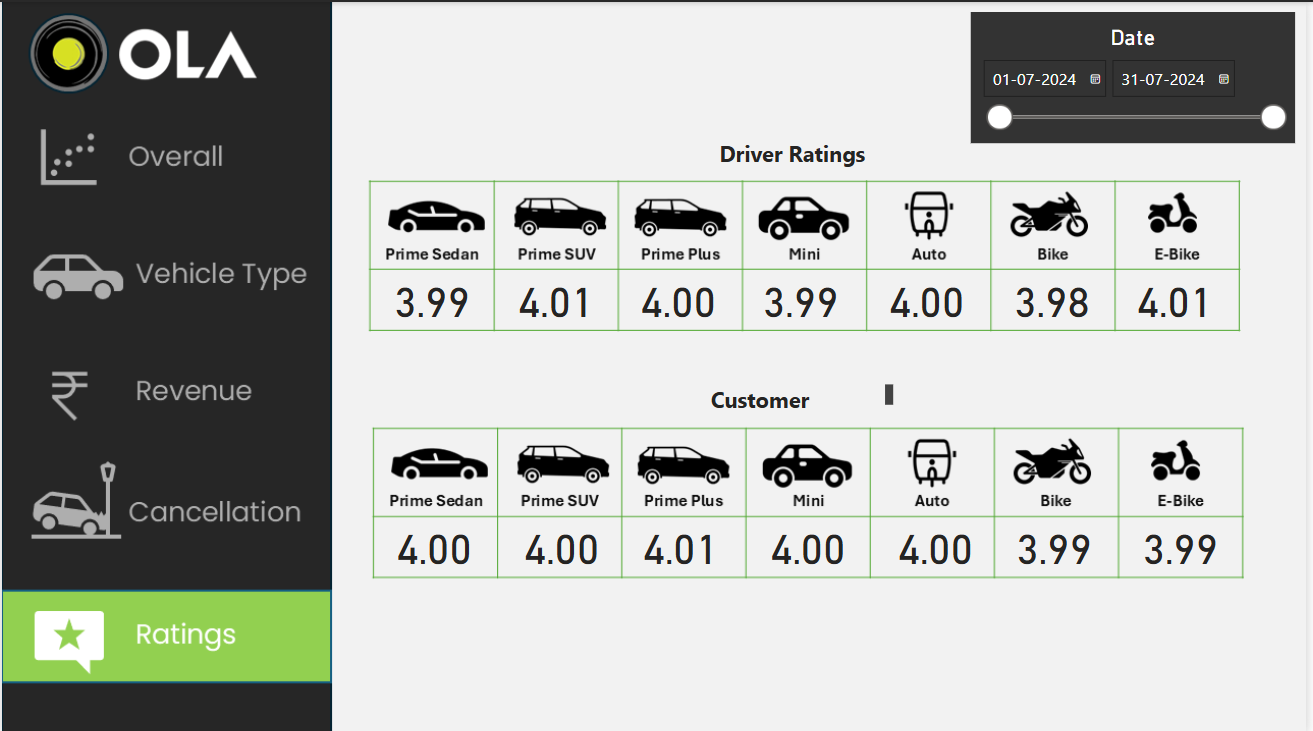

What the dashboard file says about the page in this screenshot:
{"tool":"powerbi","page":{"name":"Ratings","canvas":[1280,720],"ordinal":4},"visuals":[{"type":"card","fields":{"Values":["Avg(July (2).Driver_Ratings)"]},"box":[362.3,260.7,120.8,60.4],"z":0},{"type":"card","fields":{"Values":["Avg(July (2).Driver_Ratings)"]},"box":[483,260.7,120.8,60.4],"z":1},{"type":"card","fields":{"Values":["Avg(July (2).Driver_Ratings)"]},"box":[603.8,260.7,120.8,60.4],"z":2},{"type":"card","fields":{"Values":["Avg(July (2).Driver_Ratings)"]},"box":[724.5,260.7,120.8,60.4],"z":3},{"type":"card","fields":{"Values":["Avg(July (2).Driver_Ratings)"]},"box":[845.3,260.7,124.9,60.4],"z":4},{"type":"card","fields":{"Values":["Avg(July (2).Driver_Ratings)"]},"box":[970.2,260.7,120.8,60.4],"z":5},{"type":"card","fields":{"Values":["Avg(July (2).Driver_Ratings)"]},"box":[1090.9,260.7,120.8,60.4],"z":6},{"type":"textbox","box":[699.8,129,171.5,43.9],"z":7},{"type":"card","fields":{"Values":["Avg(July (2).Customer_Rating)"]},"box":[362.3,503.6,124.9,60.4],"z":8},{"type":"card","fields":{"Values":["Avg(July (2).Customer_Rating)"]},"box":[487.1,503.6,124.9,60.4],"z":9},{"type":"card","fields":{"Values":["Avg(July (2).Customer_Rating)"]},"box":[603.8,503.6,124.9,60.4],"z":10},{"type":"card","fields":{"Values":["Avg(July (2).Customer_Rating)"]},"box":[728.6,503.6,124.9,60.4],"z":11},{"type":"card","fields":{"Values":["Avg(July (2).Customer_Rating)"]},"box":[853.5,503.6,124.9,60.4],"z":12},{"type":"card","fields":{"Values":["Avg(July (2).Customer_Rating)"]},"box":[970.2,503.6,124.9,60.4],"z":13},{"type":"card","fields":{"Values":["Avg(July (2).Customer_Rating)"]},"box":[1095,503.6,124.9,60.4],"z":14},{"type":"textbox","box":[690.2,370.5,189.4,43.9],"z":15},{"type":"slicer","title":"Date","fields":{"Values":["July (2).Date"]},"box":[950.9,9.6,318.4,129],"z":16}]}

Visuals, with their boxes on the page's 1280x720 design canvas (x1, y1, x2, y2). These are canvas units, not pixel positions in the 1313x731 screenshot, which may show the page scaled, cropped or inside an application window:
card - Avg(July (2).Driver_Ratings): box=[362, 261, 483, 321]
card - Avg(July (2).Driver_Ratings): box=[483, 261, 604, 321]
card - Avg(July (2).Driver_Ratings): box=[604, 261, 725, 321]
card - Avg(July (2).Driver_Ratings): box=[724, 261, 845, 321]
card - Avg(July (2).Driver_Ratings): box=[845, 261, 970, 321]
card - Avg(July (2).Driver_Ratings): box=[970, 261, 1091, 321]
card - Avg(July (2).Driver_Ratings): box=[1091, 261, 1212, 321]
textbox: box=[700, 129, 871, 173]
card - Avg(July (2).Customer_Rating): box=[362, 504, 487, 564]
card - Avg(July (2).Customer_Rating): box=[487, 504, 612, 564]
card - Avg(July (2).Customer_Rating): box=[604, 504, 729, 564]
card - Avg(July (2).Customer_Rating): box=[729, 504, 854, 564]
card - Avg(July (2).Customer_Rating): box=[854, 504, 978, 564]
card - Avg(July (2).Customer_Rating): box=[970, 504, 1095, 564]
card - Avg(July (2).Customer_Rating): box=[1095, 504, 1220, 564]
textbox: box=[690, 370, 880, 414]
"Date" slicer: box=[951, 10, 1269, 139]
